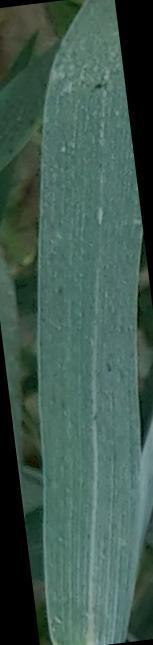Wheat: (54, 84, 126, 645)
